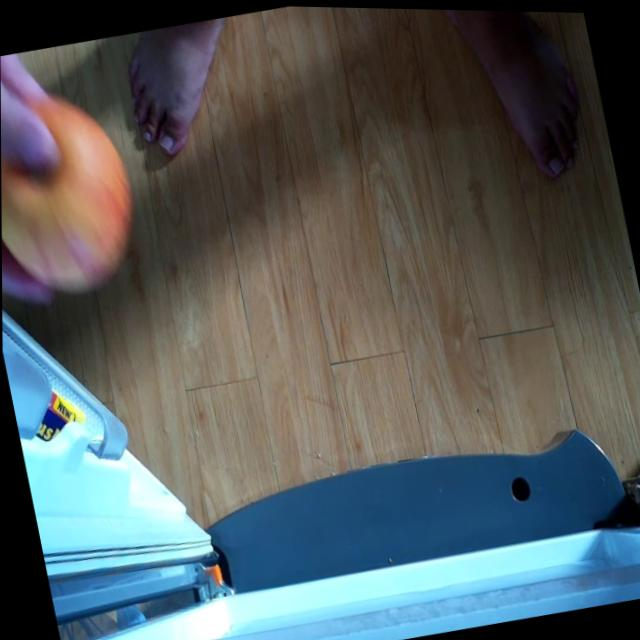apple: (0, 83, 151, 304)
